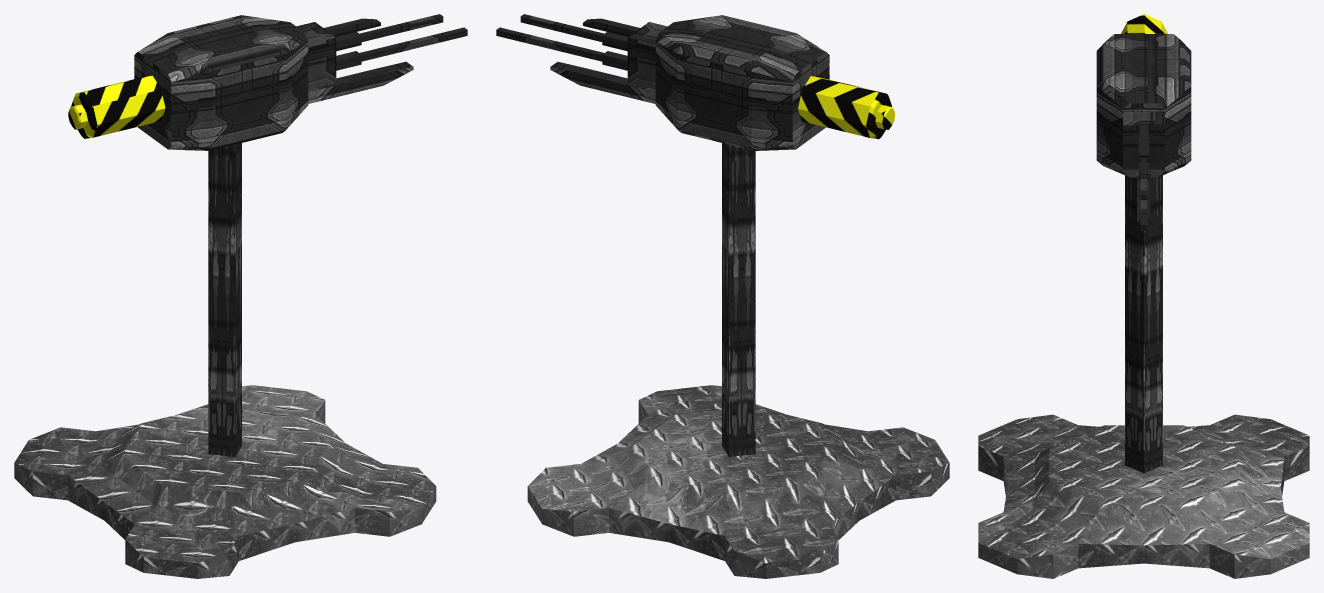
Rendered from SM_turret_fina;.fbx.
The picture shows the model from 3 angles, left to right: view 1: azimuth 30°, elevation 25°; view 2: azimuth 150°, elevation 25°; view 3: azimuth 270°, elevation 25°; orthographic projection. The views are drawn at different scales.
Visible parts, largest first — view 1: base, Head, pole, shooty part.001, battery; view 2: base, Head, pole, shooty part.001, battery; view 3: base, Head, pole, shooty part.001, battery.
Boxes of the visible parts, x1,y1,x2,y2 form: base: (14,385,436,578); Head: (134,15,308,150); pole: (208,143,241,456); shooty part.001: (296,14,467,103); battery: (68,75,165,138); base: (527,385,949,578); Head: (655,15,829,150); pole: (722,143,755,456); shooty part.001: (496,14,667,103); battery: (798,76,894,139); base: (978,414,1309,578); Head: (1096,34,1191,177); pole: (1125,175,1162,473); shooty part.001: (1123,112,1164,230); battery: (1121,14,1167,33).
Bounding box in the file's own units: 700 × 1041 × 938.
